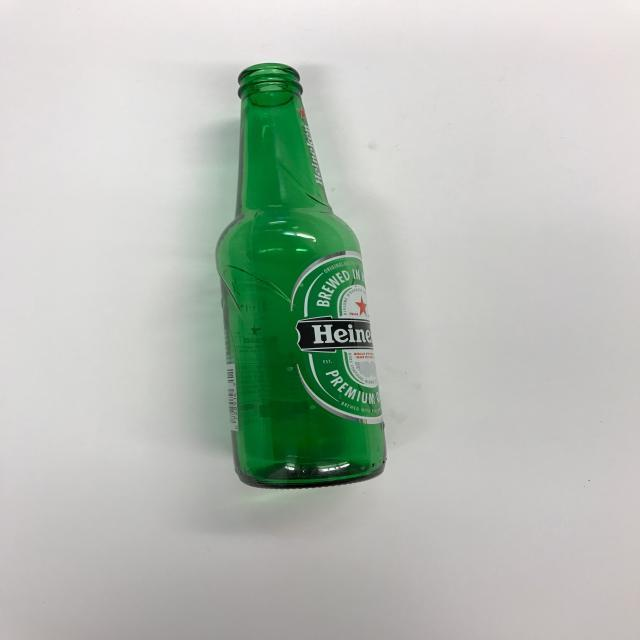glass: (214, 62, 388, 485)
